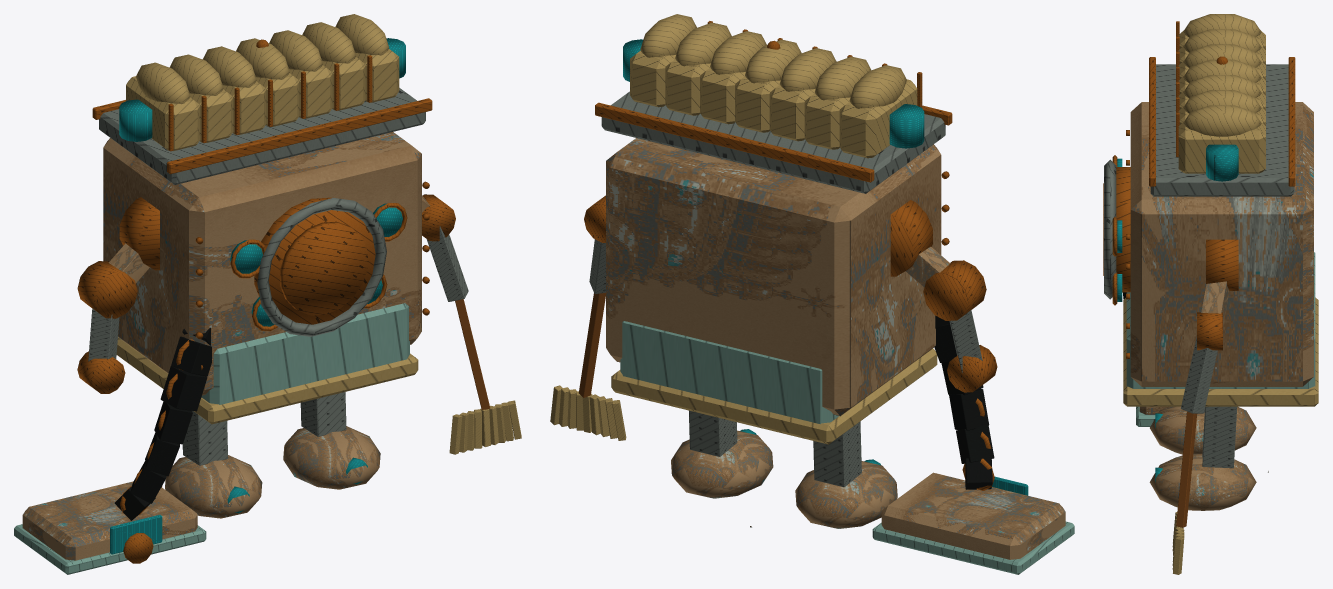
The model's file is homemaker-9000.glb.
3 views of the same model, side by side, from view 1: azimuth 30°, elevation 25°; view 2: azimuth 150°, elevation 25°; view 3: azimuth 270°, elevation 25° (orthographic). The views are drawn at different scales.
Parts seen in each view (by area): view 1: core, rack, vac; view 2: core, rack, vac; view 3: core, rack, vac.
Part boxes in pixels (x1,y1,x2,y2): core: (103,39,521,518); rack: (92,14,432,184); vac: (14,197,211,574); core: (550,40,949,528); rack: (595,14,952,193); vac: (872,200,1074,574); core: (1103,56,1318,574); rack: (1149,14,1295,196); vac: (1122,292,1167,426).
Bounding box in the file's own units: 7.2 × 6.51 × 2.99.
Materials: 1 (1 with a texture image).
